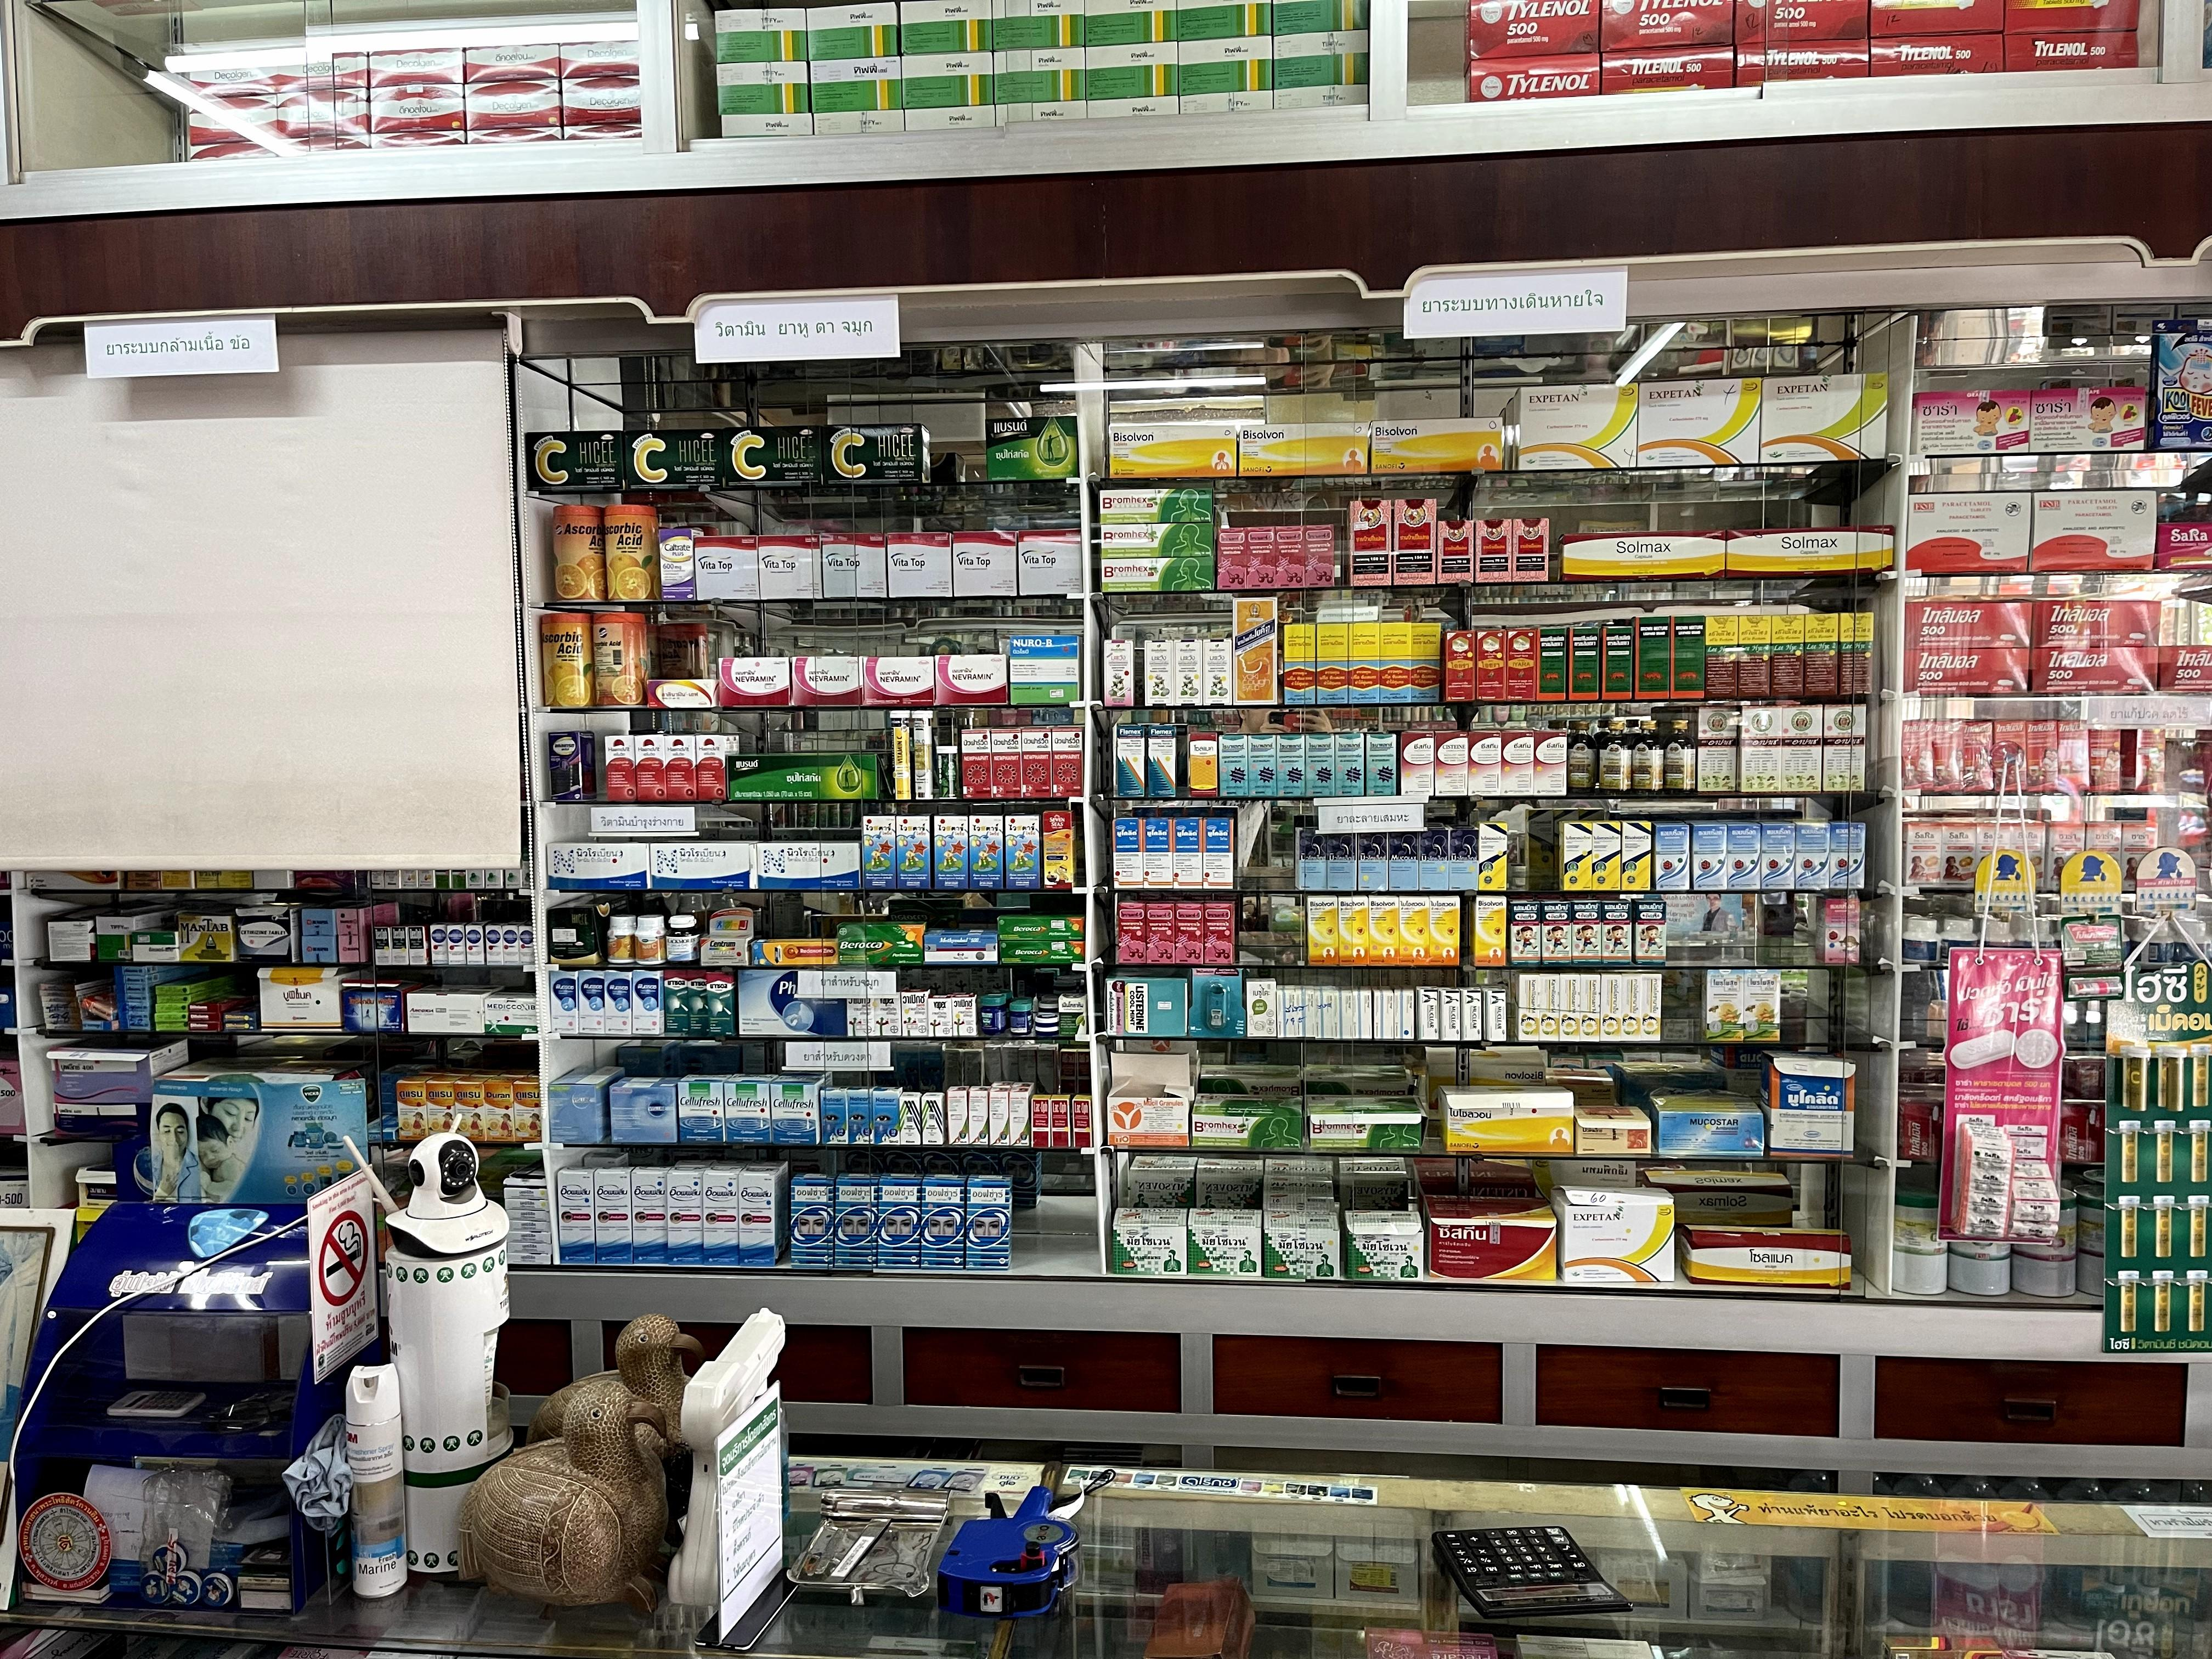Black-Tiger: (1568, 627, 1599, 701), (1602, 627, 1632, 701), (1538, 627, 1566, 701)
Black-Tiger_Big: (1634, 615, 1669, 699), (1670, 615, 1705, 697)
Cisteine: (1500, 730, 1534, 798), (1400, 730, 1435, 796), (1433, 730, 1468, 796), (1533, 728, 1566, 795), (1468, 730, 1500, 796)
Cisteine_Box: (1425, 1194, 1557, 1279)
Heamovit: (1021, 727, 1054, 798), (634, 735, 669, 802), (665, 734, 698, 802), (604, 735, 637, 802), (1050, 728, 1082, 798), (695, 734, 728, 798), (961, 728, 991, 800), (991, 730, 1022, 796)
Iyara: (1507, 629, 1536, 702), (1446, 631, 1475, 701), (1477, 629, 1505, 702)
Lac-Oph_Red: (1071, 1096, 1094, 1147), (1050, 1094, 1071, 1147), (1031, 1093, 1050, 1147)
Ma-Kham-Pom: (1315, 624, 1348, 704), (1348, 622, 1379, 704), (1379, 622, 1411, 704), (1284, 624, 1315, 704), (1411, 622, 1440, 704)
Ma-Kham-Pom_Bottle: (1599, 720, 1632, 795), (1663, 720, 1696, 793), (1632, 721, 1663, 795), (1568, 721, 1597, 793)
Ma-Vaeng_Light: (1104, 640, 1134, 708)
Ma-Vaeng_Syrup: (1144, 640, 1174, 706), (1172, 640, 1202, 706), (1204, 640, 1231, 706)
Muclear: (1418, 988, 1440, 1040), (1460, 988, 1482, 1040), (1440, 988, 1461, 1040), (1486, 990, 1507, 1042)
Mucolax: (1325, 826, 1359, 892), (1294, 826, 1327, 890), (1357, 826, 1388, 890), (1388, 826, 1420, 890), (1418, 828, 1449, 890), (1449, 826, 1479, 890)
Nac-Long: (1372, 988, 1393, 1039), (1352, 990, 1372, 1039), (1395, 990, 1414, 1040), (1296, 988, 1315, 1037), (1334, 990, 1353, 1039), (1277, 990, 1296, 1037), (1315, 990, 1334, 1037)
NatC: (608, 915, 637, 964), (636, 917, 665, 964)
Nevramin: (934, 655, 1008, 704), (862, 655, 934, 706), (792, 655, 862, 706), (719, 657, 791, 704)
Opplin: (738, 1168, 780, 1265), (557, 1166, 596, 1263), (631, 1166, 669, 1263), (594, 1166, 632, 1262), (704, 1168, 740, 1267), (669, 1168, 705, 1265)
Opsar: (876, 1173, 921, 1267), (921, 1175, 967, 1269), (967, 1175, 1012, 1269), (791, 1173, 834, 1269), (836, 1173, 878, 1267)
Pei-Pa-Koa: (1437, 519, 1474, 584), (1475, 519, 1512, 584), (1514, 519, 1548, 582)
Pei-Pa-Koa_Big: (1348, 500, 1392, 586), (1393, 498, 1437, 584)
Rhinalax: (1364, 734, 1397, 798), (1332, 734, 1364, 798), (1305, 734, 1334, 796), (1219, 735, 1249, 796), (1249, 735, 1277, 796), (1277, 735, 1305, 796)
Rhinalax-B: (1172, 901, 1204, 964), (1216, 526, 1247, 587), (1245, 526, 1277, 587), (1303, 526, 1334, 587), (1202, 903, 1233, 964), (1116, 901, 1146, 964), (1146, 901, 1176, 964), (1277, 526, 1305, 587)
Solmax: (1190, 732, 1219, 798)
Solmax-Capsule: (1684, 1225, 1851, 1286), (1726, 528, 1895, 577), (1561, 533, 1726, 579)
VapoRub_Big: (979, 995, 1007, 1032)
VapoRub_Mid: (1010, 1000, 1033, 1033)
VapoRub_Small: (1035, 1014, 1059, 1026), (1038, 1000, 1059, 1012), (1036, 1026, 1059, 1037)
Vislube20: (611, 1080, 678, 1141)
Vislube60: (549, 1066, 625, 1143)
